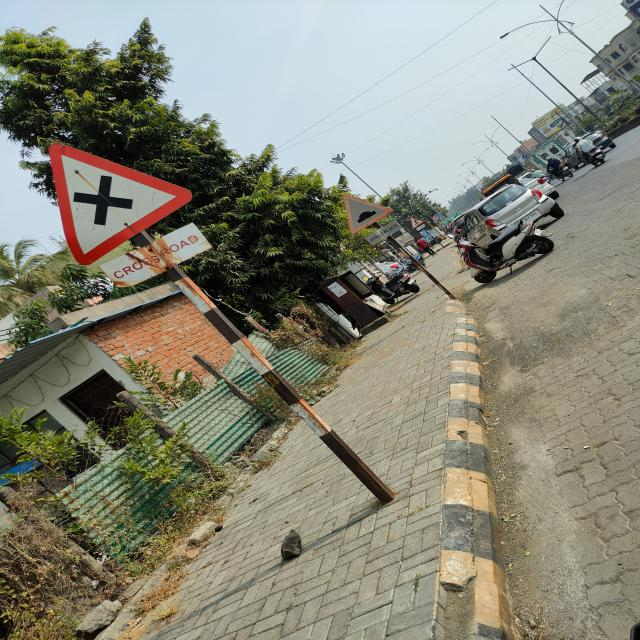CROSS_ROAD: (47, 139, 197, 267)
